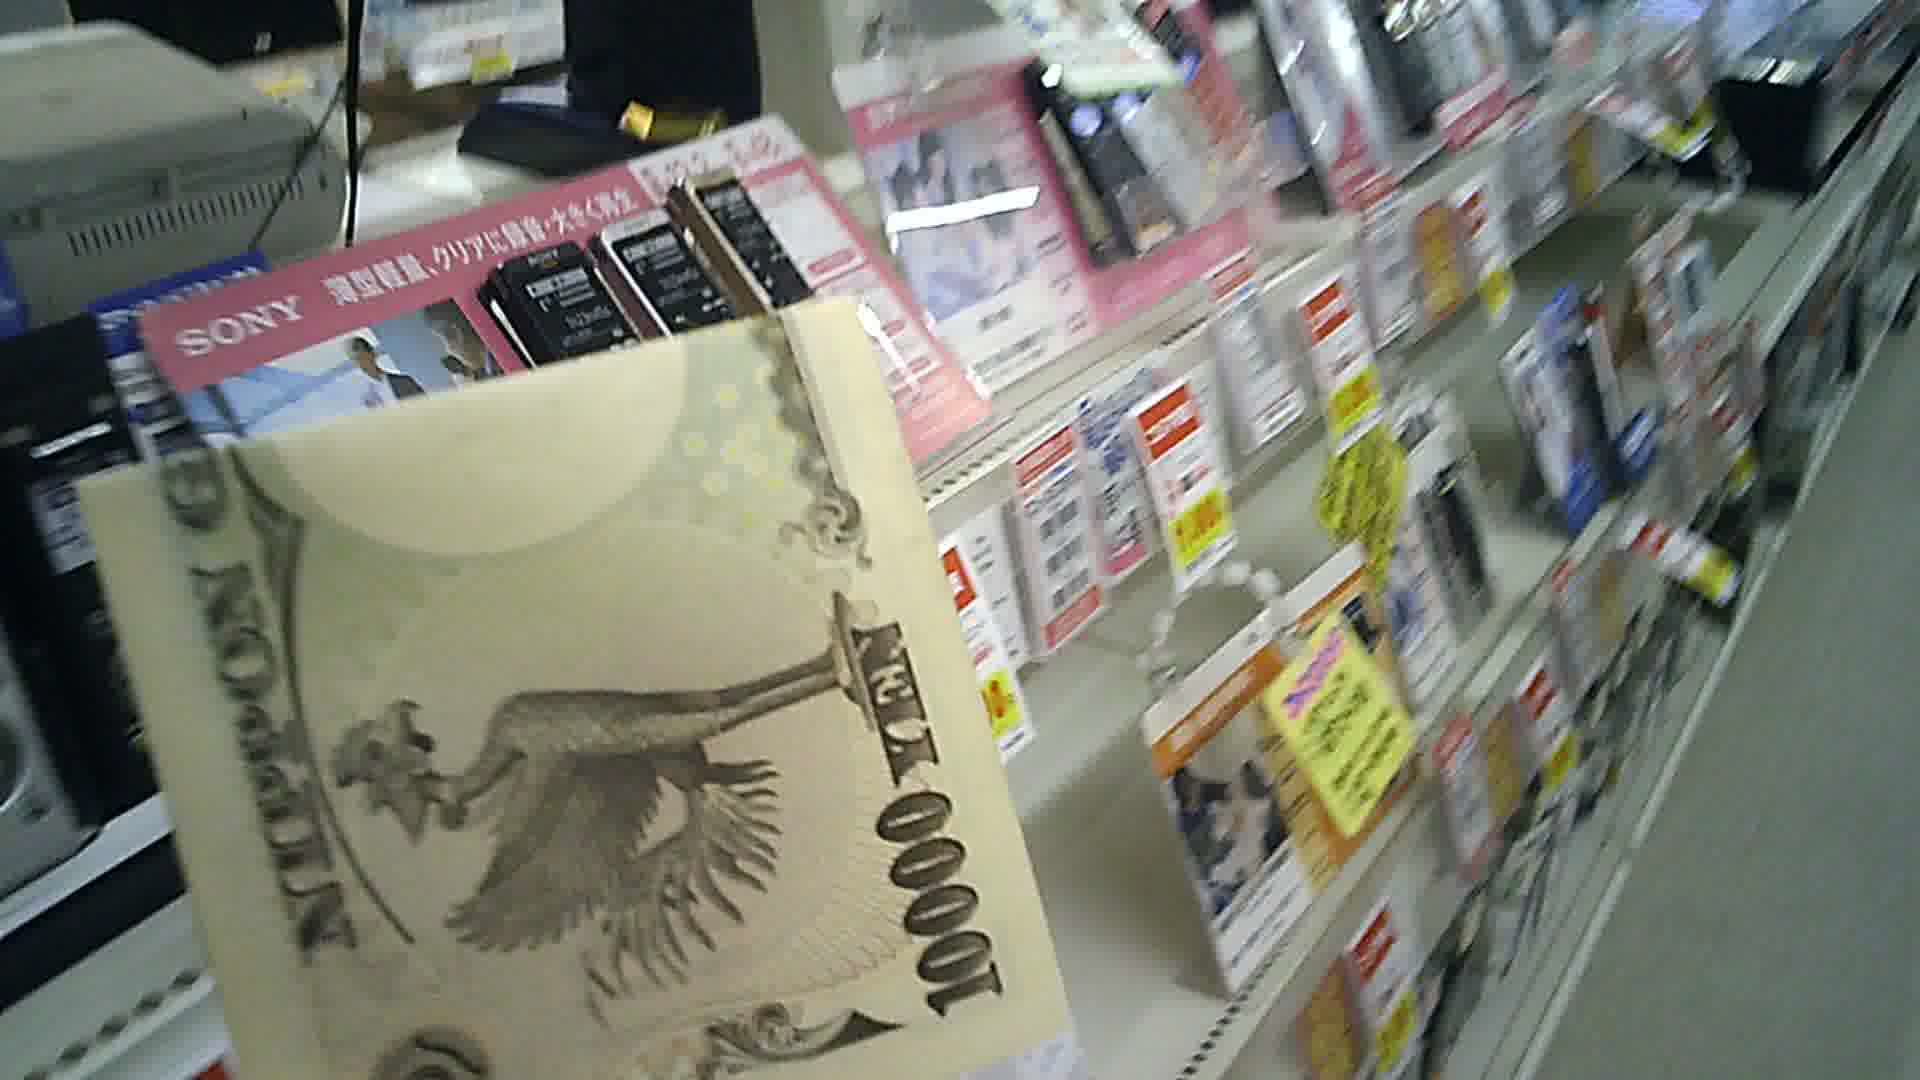10,000 Yen: (78, 355, 1083, 1077)
